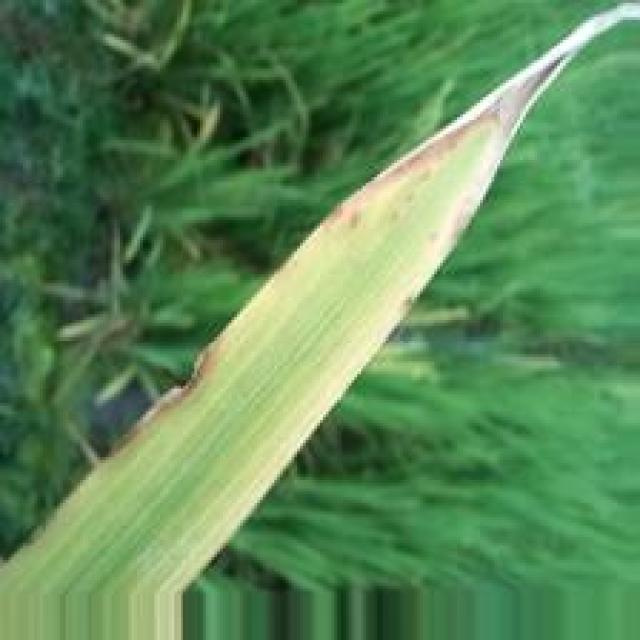Leaf_Scald: (326, 1, 638, 322), (109, 316, 236, 465)
